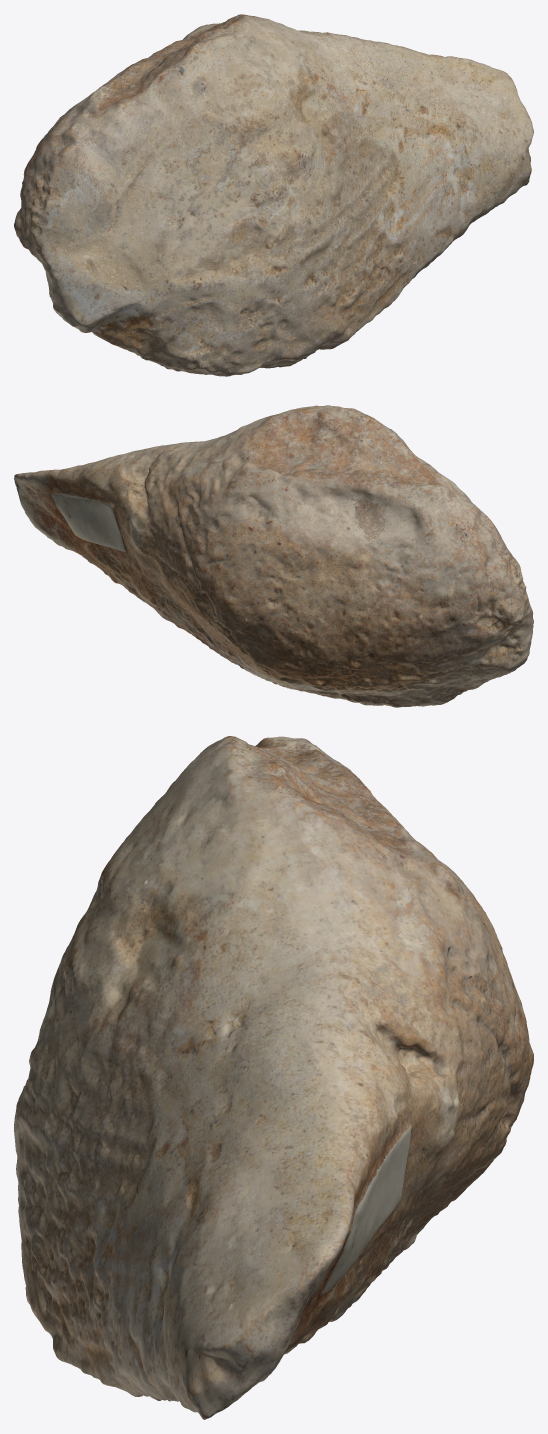
File: EWS0014125.glb
The picture shows the model from 3 angles, top to bottom: view 1: azimuth 30°, elevation 25°; view 2: azimuth 150°, elevation 25°; view 3: azimuth 270°, elevation 25°; orthographic projection. The views are drawn at different scales.
Parts seen in each view (by area): view 1: input; view 2: input; view 3: input.
Boxes of the visible parts, bbox=[...] form: input: bbox=[14, 14, 533, 376]; input: bbox=[14, 405, 533, 707]; input: bbox=[14, 736, 533, 1419].
Bounding box in the file's own units: 0.0682 × 0.0387 × 0.0328.
1 material, 1 textured.
